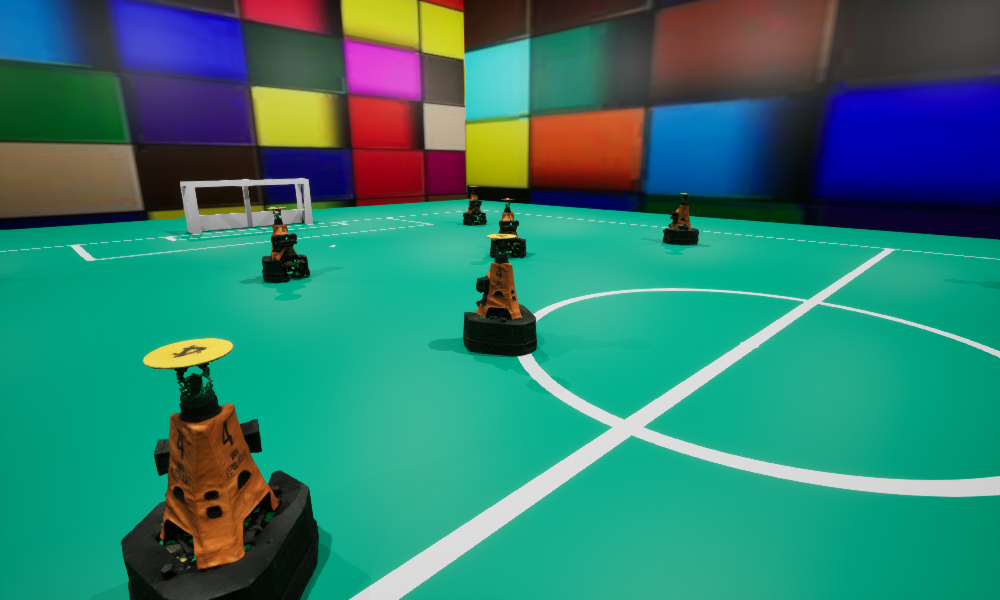o: (121, 338, 318, 599), (463, 234, 536, 356), (262, 207, 309, 282), (490, 198, 526, 257), (663, 193, 698, 244), (463, 186, 486, 225)
